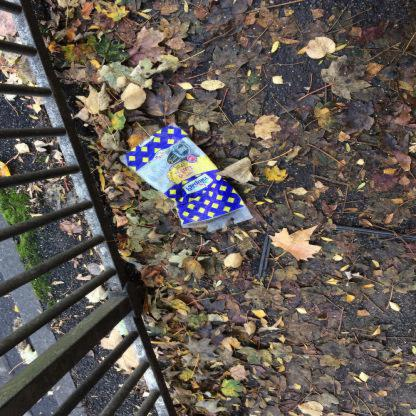Plastic bag - wrapper: (120, 122, 254, 232)
